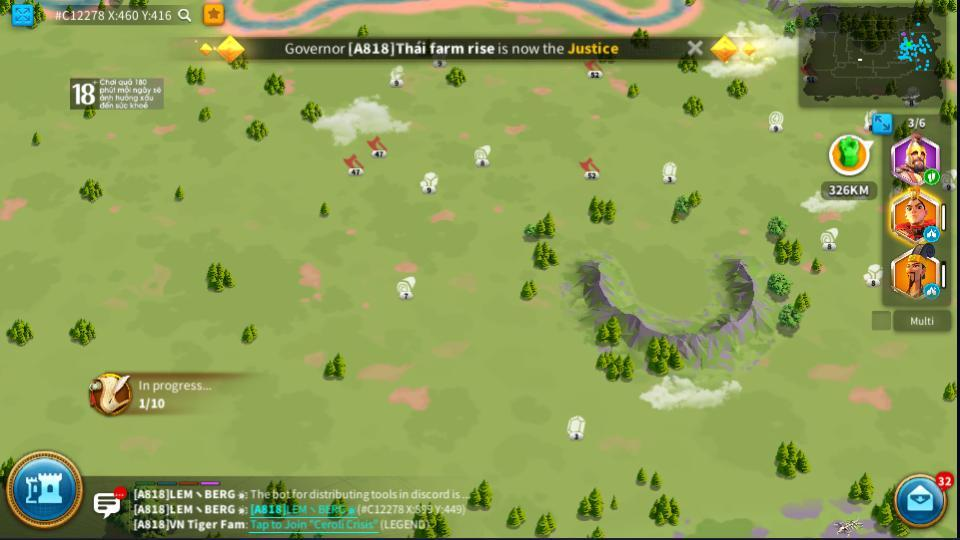gem-z-out: (564, 415, 587, 439), (661, 162, 679, 182)
march_idle: (923, 284, 939, 297), (923, 227, 938, 239)
march_marching: (923, 170, 937, 184)
